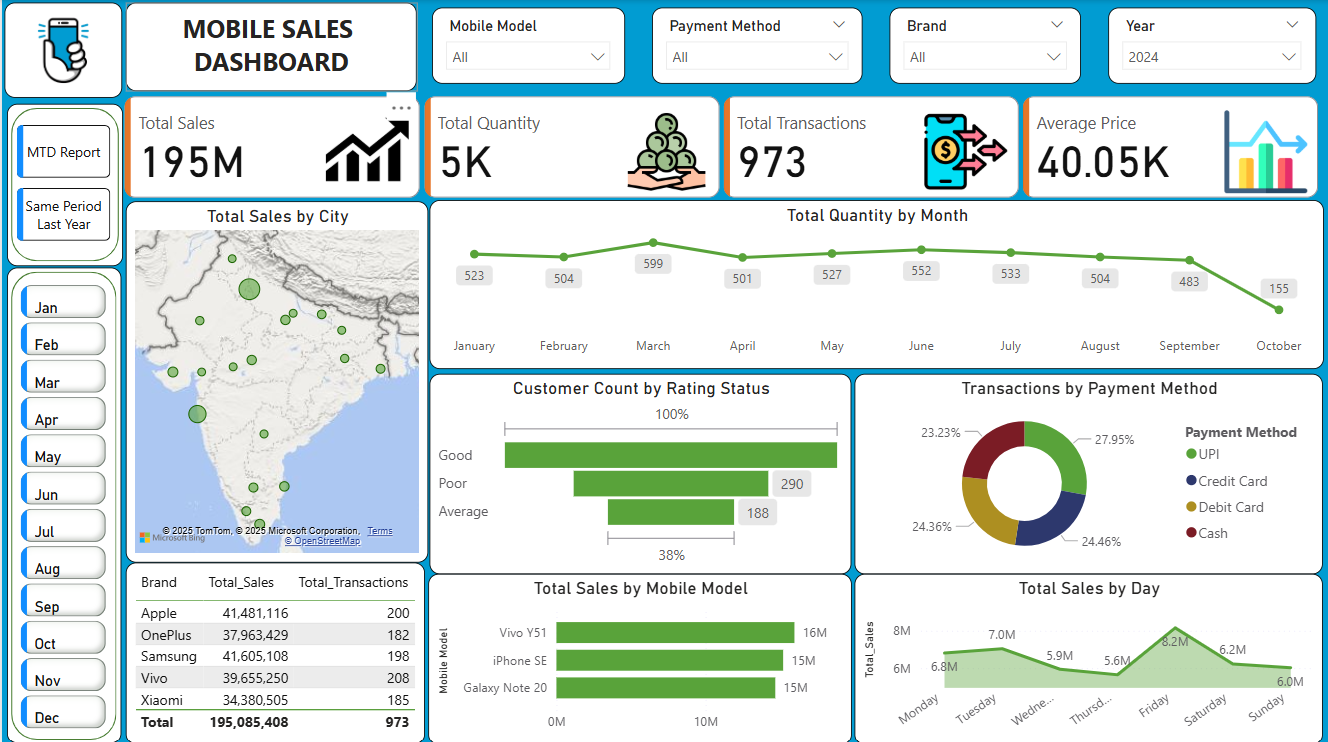

The page's visual inventory and layout, read from the dashboard file:
{"tool":"powerbi","page":{"name":"Dashboard","canvas":[1280,720],"ordinal":0},"visuals":[{"type":"image","box":[2.4,2.4,113.4,91.7],"z":0},{"type":"shape","box":[4.3,99.6,112.4,156.4],"z":1000},{"type":"shape","box":[4.6,258.4,110.1,460.3],"z":2000},{"type":"cardVisual","fields":{"Data":["Measure_Table.Total_Sales","Measure_Table.Total_Quantity","Measure_Table.Total_Transactions","Measure_Table.Average_Price"]},"box":[113.4,88.5,1163.2,108.7],"z":3000},{"type":"slicer","fields":{"Values":["Sales.Mobile Model"]},"box":[415.5,7.2,186.1,73.6],"z":4000},{"type":"slicer","fields":{"Values":["Sales.Payment Method"]},"box":[627.6,7.2,203.4,73.6],"z":5000},{"type":"slicer","fields":{"Values":["Sales.Brand"]},"box":[857,7.2,184.7,73.6],"z":6000},{"type":"map","title":"Total Sales by City","fields":{"Category":["Sales.City"],"Size":["Measure_Table.Total_Sales"]},"box":[119.3,194.2,292.1,348.7],"z":7000},{"type":"lineChart","title":"Total Quantity by Month","fields":{"Y":["Measure_Table.Total_Quantity"],"Category":["DateTable.Date Hierarchy.Month Name"]},"box":[412.7,193.6,863.5,163],"z":8000},{"type":"funnel","title":"Customer Count by Rating Status","fields":{"Y":["CountNonNull(Sales.Customer Name)"],"Category":["Sales.Rating_Status"]},"box":[412.7,360.4,407.6,193.6],"z":9000},{"type":"donutChart","title":"Transactions by Payment Method","fields":{"Y":["Measure_Table.Total_Transactions"],"Category":["Sales.Payment Method"]},"box":[822.8,360.4,452.1,193.6],"z":10000},{"type":"barChart","title":"Total Sales by Mobile Model","fields":{"Y":["Measure_Table.Total_Sales"],"Category":["Sales.Mobile Model"]},"box":[411.4,554,408.8,165.6],"z":11000},{"type":"areaChart","title":"Total Sales by Day","fields":{"Y":["Measure_Table.Total_Sales"],"Category":["DateTable.Day Name"]},"box":[822.8,554,452.1,165.6],"z":12000},{"type":"tableEx","fields":{"Values":["Sales.Brand","Measure_Table.Total_Sales","Measure_Table.Total_Transactions"]},"box":[119.3,542.9,289,175.9],"z":13000},{"type":"slicer","fields":{"Values":["DateTable.Year"]},"box":[1067.6,7.2,200.5,73.6],"z":14000},{"type":"pageNavigator","box":[14.4,121.2,90.9,112.5],"z":15000},{"type":"advancedSlicerVisual","fields":{"Values":["DateTable.Month Short Name"]},"box":[13,269.8,92.3,444.4],"z":16000},{"type":"textbox","box":[119.4,2.4,281.1,85.7],"z":17000}]}

Visuals, with their boxes in screenshot pixels (x1, y1, x2, y2), scaled from the page's 1280x720 canvas onto the 1328x742 screenshot:
image: locate(2, 2, 120, 97)
shape: locate(4, 103, 121, 264)
shape: locate(5, 266, 119, 741)
cardVisual - Measure_Table.Total_Sales x Measure_Table.Total_Quantity: locate(118, 91, 1324, 203)
slicer - Sales.Mobile Model: locate(431, 7, 624, 83)
slicer - Sales.Payment Method: locate(651, 7, 862, 83)
slicer - Sales.Brand: locate(889, 7, 1081, 83)
"Total Sales by City" map: locate(124, 200, 427, 559)
"Total Quantity by Month" lineChart: locate(428, 200, 1324, 367)
"Customer Count by Rating Status" funnel: locate(428, 371, 851, 571)
"Transactions by Payment Method" donutChart: locate(854, 371, 1323, 571)
"Total Sales by Mobile Model" barChart: locate(427, 571, 851, 741)
"Total Sales by Day" areaChart: locate(854, 571, 1323, 741)
tableEx - Sales.Brand x Measure_Table.Total_Sales: locate(124, 559, 424, 741)
slicer - DateTable.Year: locate(1108, 7, 1316, 83)
pageNavigator: locate(15, 125, 109, 241)
advancedSlicerVisual - DateTable.Month Short Name: locate(13, 278, 109, 736)
textbox: locate(124, 2, 416, 91)
